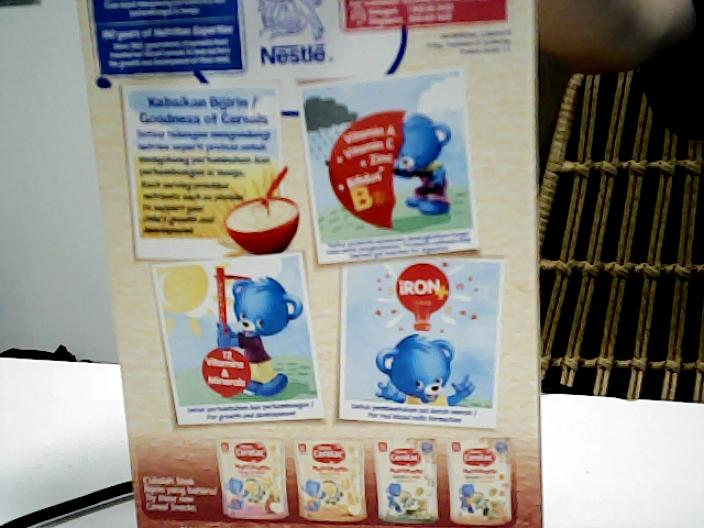Babyfood_200-299g_Halal_NonHealthy: (88, 1, 525, 524)
